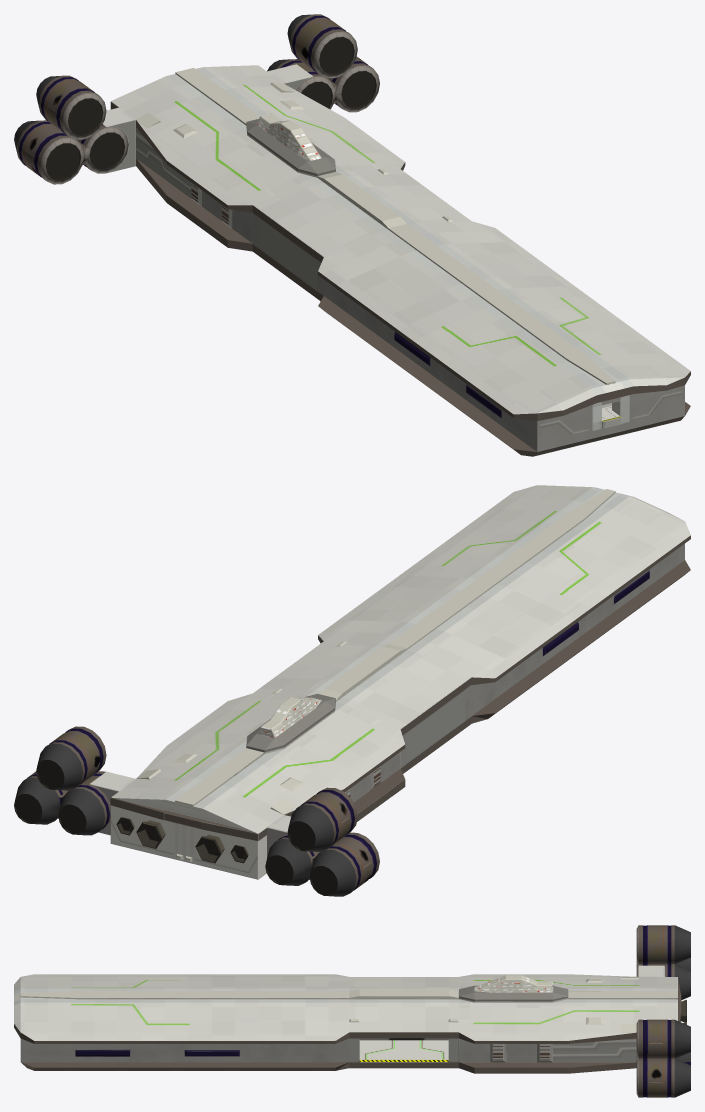
The model's file is SSCCapitalship1.fbx.
The picture shows the model from 3 angles, top to bottom: view 1: azimuth 30°, elevation 25°; view 2: azimuth 150°, elevation 25°; view 3: azimuth 270°, elevation 25°; orthographic projection. The views are drawn at different scales.
Parts seen in each view (by area): view 1: SSCCapitalship1_Body_LOD0, SSCCapitalship1_Eng_LOD0, SSCCapitalship1_Hanger_LOD0; view 2: SSCCapitalship1_Body_LOD0, SSCCapitalship1_Eng_LOD0, SSCCapitalship1_Hanger_LOD0; view 3: SSCCapitalship1_Body_LOD0, SSCCapitalship1_Hanger_LOD0, SSCCapitalship1_Eng_LOD0.
Boxes of the visible parts, <box> form: SSCCapitalship1_Body_LOD0: <box>103,64,690,456</box>; SSCCapitalship1_Eng_LOD0: <box>14,14,379,184</box>; SSCCapitalship1_Hanger_LOD0: <box>252,169,471,301</box>; SSCCapitalship1_Body_LOD0: <box>90,485,690,879</box>; SSCCapitalship1_Eng_LOD0: <box>14,726,379,896</box>; SSCCapitalship1_Hanger_LOD0: <box>253,641,471,773</box>; SSCCapitalship1_Body_LOD0: <box>14,965,686,1073</box>; SSCCapitalship1_Hanger_LOD0: <box>349,977,458,1068</box>; SSCCapitalship1_Eng_LOD0: <box>636,925,690,1097</box>.
Size of what is drawn, in the model's own units: 46000 by 11095 by 102970.
